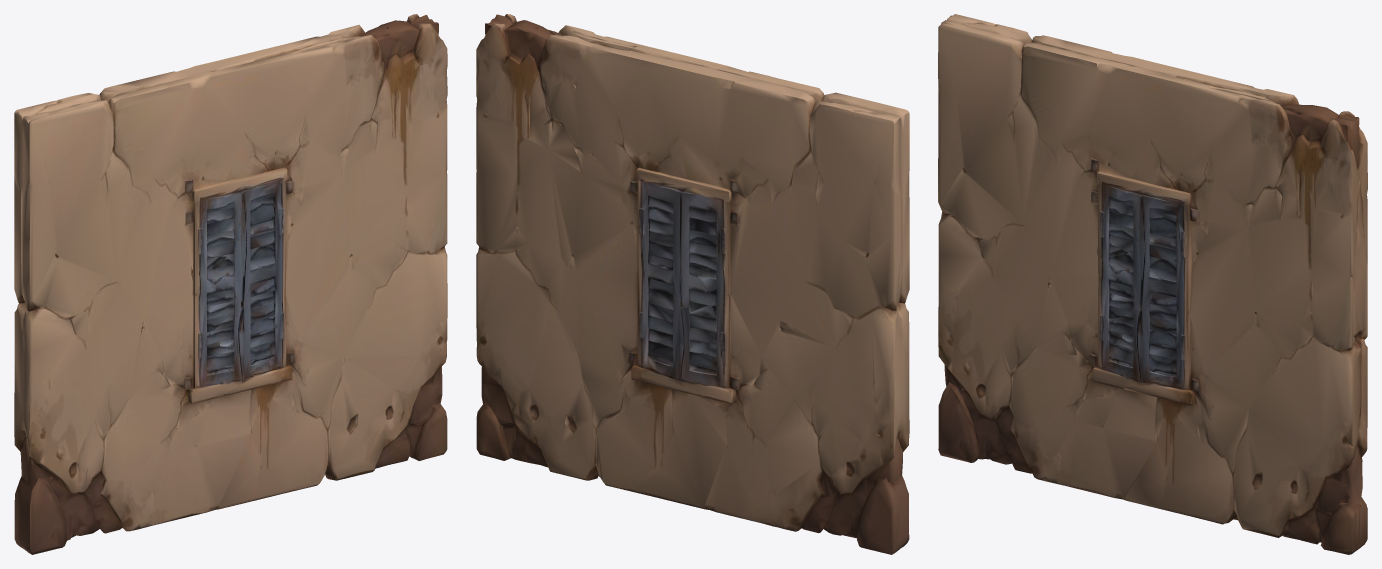
Rendered from finish_plaster_window_idle.glb.
3 views of the same model, side by side, from view 1: azimuth 30°, elevation 25°; view 2: azimuth 150°, elevation 25°; view 3: azimuth 330°, elevation 25° (orthographic).
Parts seen in each view (by area): view 1: tripo_node_a973d4d1-69f9-4cee-83f2-f33e7d0f16fc; view 2: tripo_node_a973d4d1-69f9-4cee-83f2-f33e7d0f16fc; view 3: tripo_node_a973d4d1-69f9-4cee-83f2-f33e7d0f16fc.
Part boxes in pixels (x1,y1,x2,y2): tripo_node_a973d4d1-69f9-4cee-83f2-f33e7d0f16fc: (14,14,447,554); tripo_node_a973d4d1-69f9-4cee-83f2-f33e7d0f16fc: (476,14,909,554); tripo_node_a973d4d1-69f9-4cee-83f2-f33e7d0f16fc: (938,14,1367,554).
Bounding box in the file's own units: 0.9997 × 0.9998 × 0.0999.
1 material, 1 textured.
